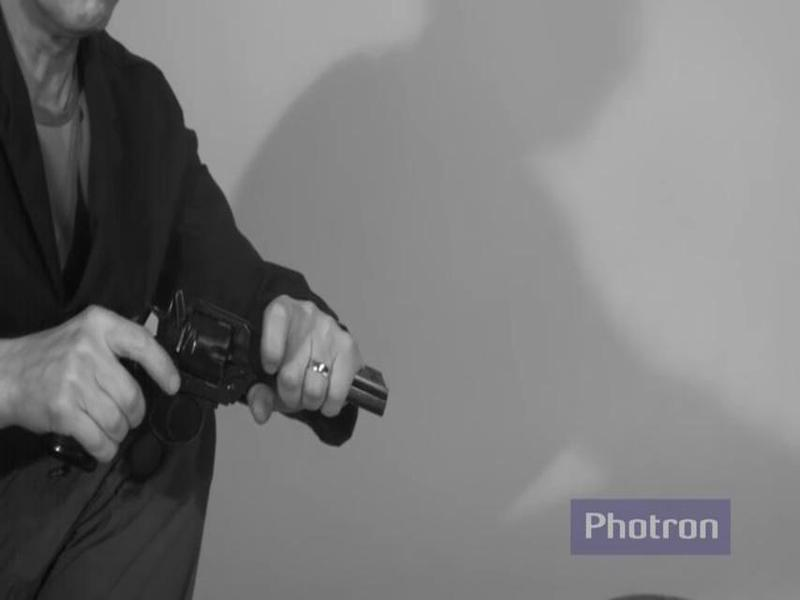Revolver: (67, 267, 417, 498)
